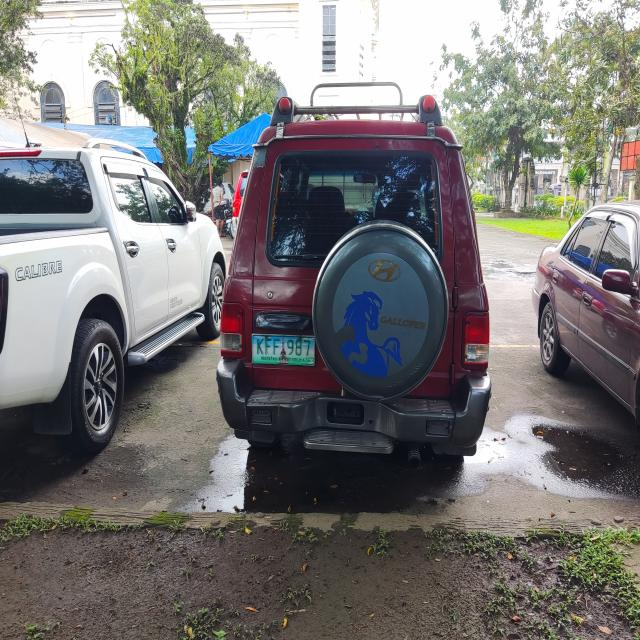plate: (251, 332, 316, 367)
